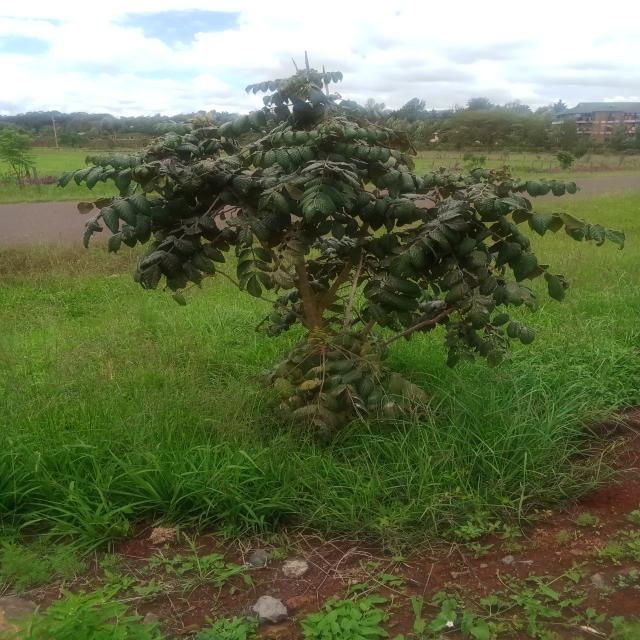Polyscias Kikuyensis: (37, 65, 630, 484)
